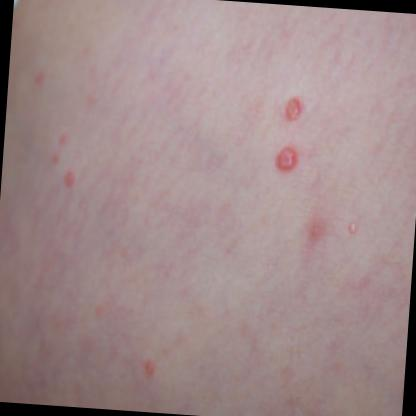Warts: (272, 142, 300, 182), (284, 94, 304, 127)
